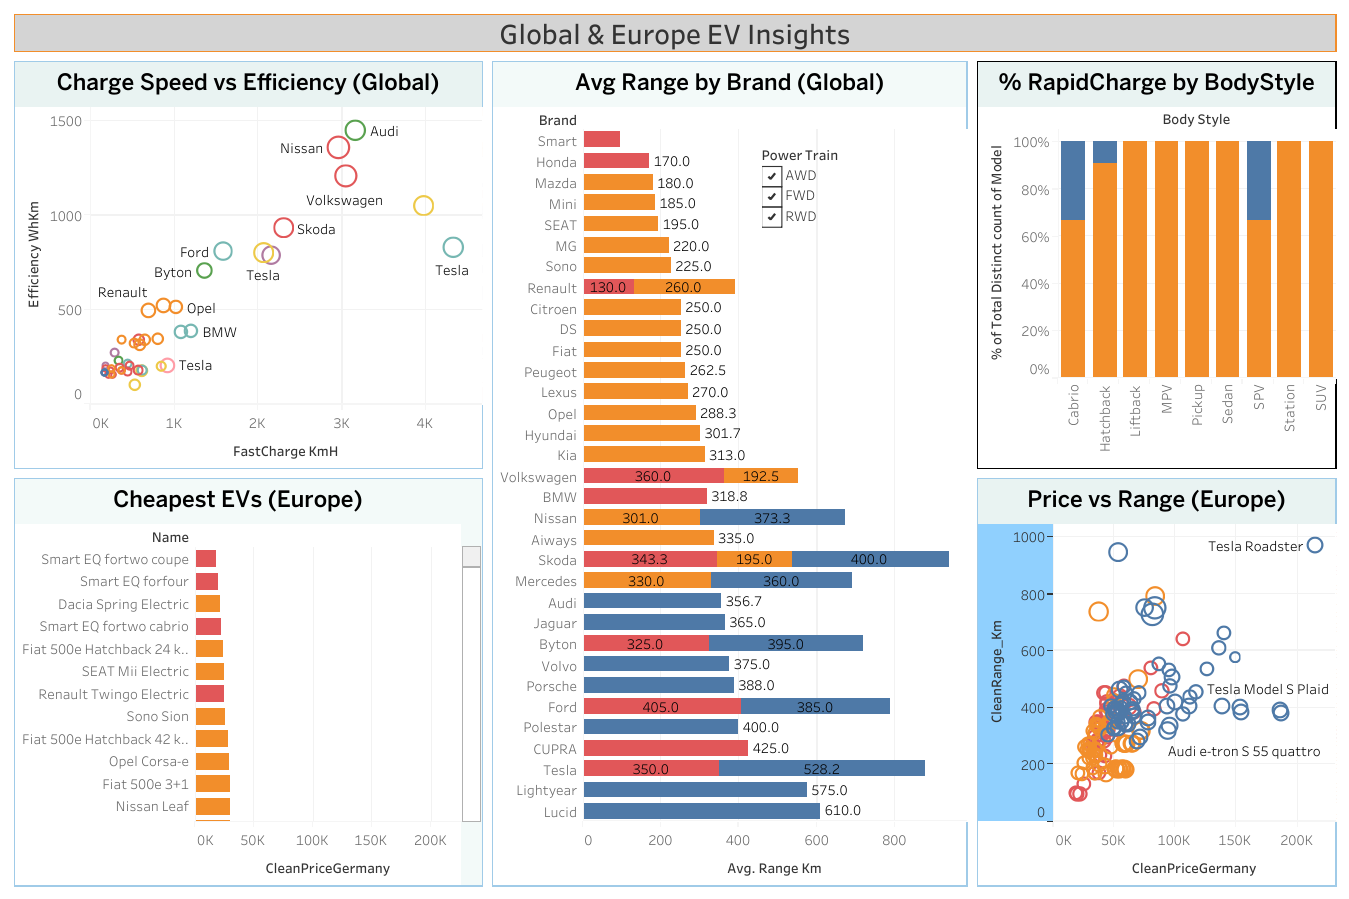

Layout of this report page (visuals, bound fields, positions):
{"tool":"tableau","page":{"name":"Global & Europe EV Insights","canvas":[1200,800],"ordinal":0},"visuals":[{"type":"title","box":[8,8,1184,49]},{"type":"worksheet","title":"Charge Speed vs Efficiency (Global)","mark":"Automatic","rows":["Efficiency_WhKm"],"cols":["FastCharge_KmH"],"box":[8,57,425.3,367.5]},{"type":"worksheet","title":"Avg Range by Brand (Global)","mark":"Automatic","rows":["Brand"],"cols":["Range_Km"],"box":[433.3,57,431.1,735]},{"type":"worksheet","title":"% RapidCharge by BodyStyle","mark":"Automatic","cols":["BodyStyle"],"box":[864.3,57,327.6,367.5]},{"type":"filter","title":"Avg Range by Brand (Global)","param":"[federated.01hva3d12yomot1dcexr81pb5krv].[none:PowerTrain:nk]","box":[677,127,160,120]},{"type":"worksheet","title":"Cheapest EVs (Europe)","mark":"Automatic","rows":["Name"],"cols":["Calculation_1569785968985006081"],"box":[8,424.5,425.3,367.5]},{"type":"worksheet","title":"Price vs Range (Europe)","mark":"Automatic","rows":["Calculation_1569785968985083906"],"cols":["Calculation_1569785968985006081"],"box":[864.3,424.5,327.6,367.5]}]}

Visuals, with their boxes in screenshot pixels (x1, y1, x2, y2), scaled from the page's 1200x800 canvas onto the 1349x899 screenshot:
title: crop(9, 9, 1340, 64)
"Charge Speed vs Efficiency (Global)" worksheet: crop(9, 64, 487, 477)
"Avg Range by Brand (Global)" worksheet: crop(487, 64, 972, 890)
"% RapidCharge by BodyStyle" worksheet: crop(972, 64, 1340, 477)
"Avg Range by Brand (Global)" filter: crop(761, 143, 941, 278)
"Cheapest EVs (Europe)" worksheet: crop(9, 477, 487, 890)
"Price vs Range (Europe)" worksheet: crop(972, 477, 1340, 890)
